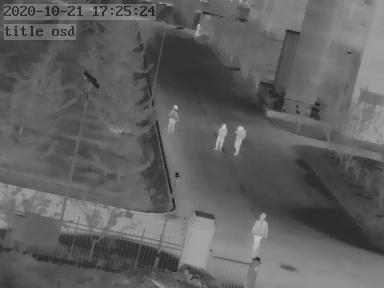person: (250, 210, 267, 255), (214, 121, 228, 152), (233, 124, 246, 156), (167, 103, 179, 131), (194, 23, 201, 37)
